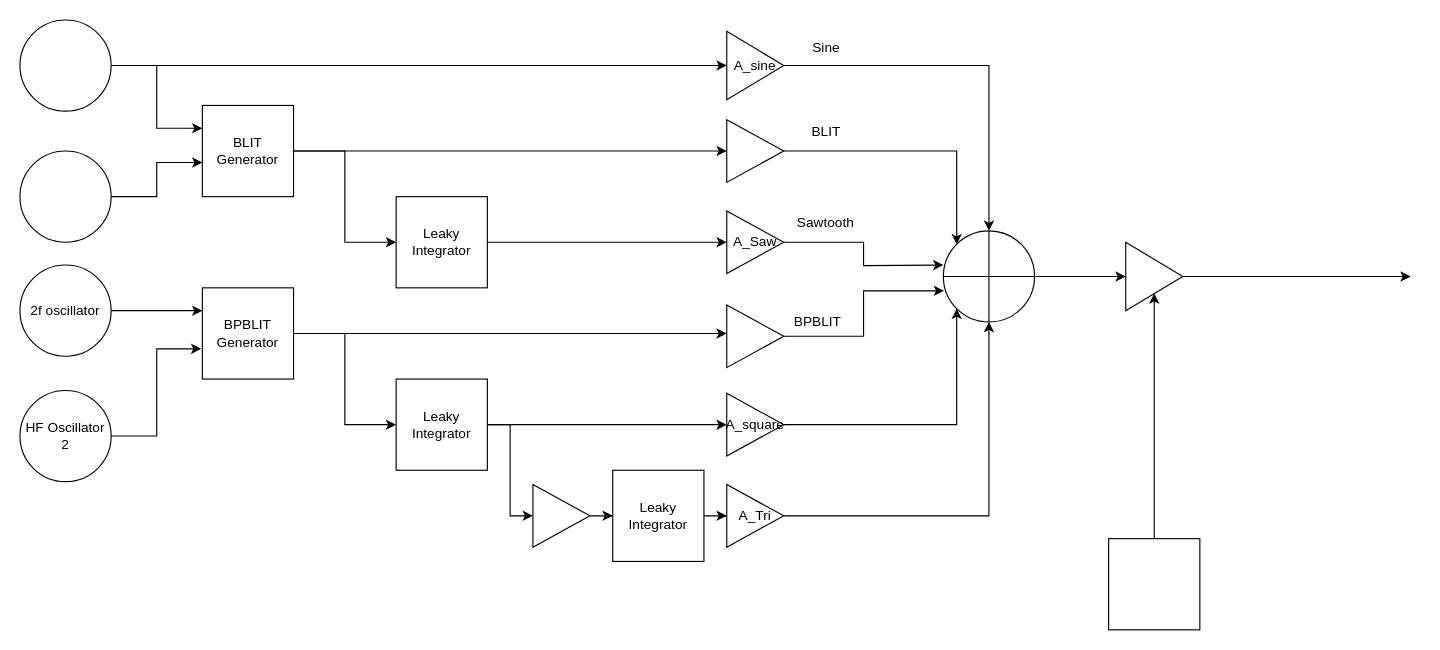
This 1440x650 diagram has some shape labels left out. Here are the shapes that lost their labels. From the top down, the centre of each, then its label:
point (65, 65): f Oscilator
point (755, 150): A_blit
point (65, 196): HF Oscillator
point (755, 336): A_bpblit
point (1154, 584): Envelope Generator
